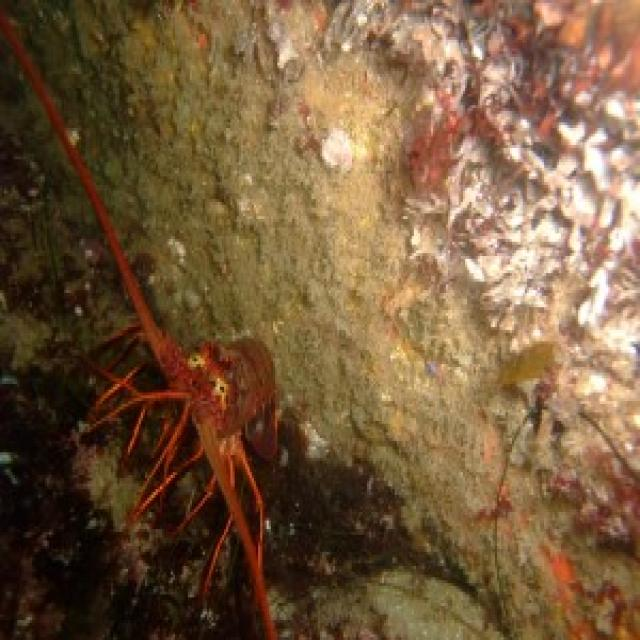lobsters: (0, 53, 383, 561)
